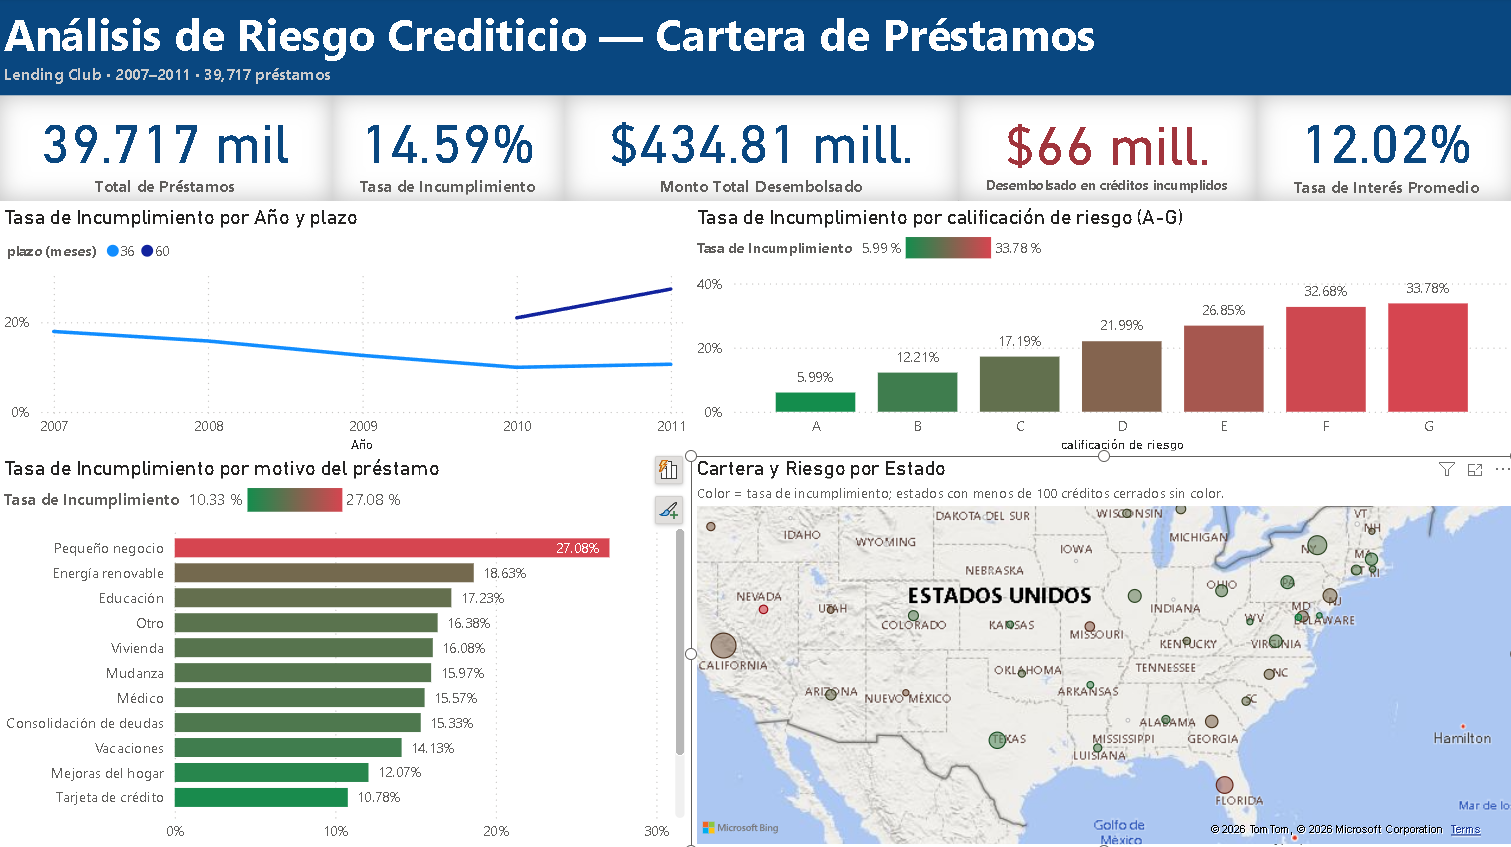

The page's visual inventory and layout, read from the dashboard file:
{"tool":"powerbi","page":{"name":"Análisis","canvas":[1280,720],"ordinal":0},"visuals":[{"type":"card","fields":{"Values":["loan_limpio.Total de Préstamos"]},"box":[0,81.6,282.2,88.7],"z":0},{"type":"card","fields":{"Values":["loan_limpio.Tasa de Incumplimiento"]},"box":[282,81.6,195.5,88.7],"z":1000},{"type":"card","fields":{"Values":["loan_limpio.Monto Total Desembolsado"]},"box":[477.2,81.6,332.6,88.7],"z":2000},{"type":"card","fields":{"Values":["loan_limpio.Monto en Riesgo"]},"box":[809.6,81.6,252,88.7],"z":3000},{"type":"card","fields":{"Values":["loan_limpio.Tasa de Interés Promedio"]},"box":[1061.6,81.7,218.4,88.8],"z":4000},{"type":"lineChart","title":"Tasa de Incumplimiento por Año y  plazo","fields":{"Category":["loan_limpio.issue_d.Variación.Jerarquía de fechas.Año"],"Y":["loan_limpio.Tasa de Incumplimiento"],"Series":["loan_limpio.term"]},"box":[0,174.5,584.3,212.5],"z":5000},{"type":"columnChart","title":"Tasa de Incumplimiento por calificación de riesgo (A-G)","fields":{"Category":["loan_limpio.grade"],"Y":["loan_limpio.Tasa de Incumplimiento"]},"box":[583.9,174.5,696.1,212.3],"z":6000},{"type":"clusteredBarChart","title":"Tasa de Incumplimiento por motivo del préstamo","fields":{"Category":["loan_limpio.purpose"],"Y":["loan_limpio.Tasa de Incumplimiento"]},"box":[0,386.4,584,333.5],"z":7000},{"type":"map","title":"Cartera y Riesgo por Estado","fields":{"Category":["loan_limpio.addr_state"],"Size":["loan_limpio.Total de Préstamos"]},"box":[584,386.4,696,333.5],"z":8000},{"type":"textbox","box":[0,0,1280,81.6],"z":9000}]}

Visuals, with their boxes in screenshot pixels (x1, y1, x2, y2), scaled from the page's 1280x720 canvas onto the 1511x847 screenshot:
card - loan_limpio.Total de Préstamos: (0, 96, 333, 200)
card - loan_limpio.Tasa de Incumplimiento: (333, 96, 564, 200)
card - loan_limpio.Monto Total Desembolsado: (563, 96, 956, 200)
card - loan_limpio.Monto en Riesgo: (956, 96, 1253, 200)
card - loan_limpio.Tasa de Interés Promedio: (1253, 96, 1510, 201)
"Tasa de Incumplimiento por Año y  plazo" lineChart: (0, 205, 690, 455)
"Tasa de Incumplimiento por calificación de riesgo (A-G)" columnChart: (689, 205, 1510, 455)
"Tasa de Incumplimiento por motivo del préstamo" clusteredBarChart: (0, 455, 689, 846)
"Cartera y Riesgo por Estado" map: (689, 455, 1510, 846)
textbox: (0, 0, 1510, 96)
